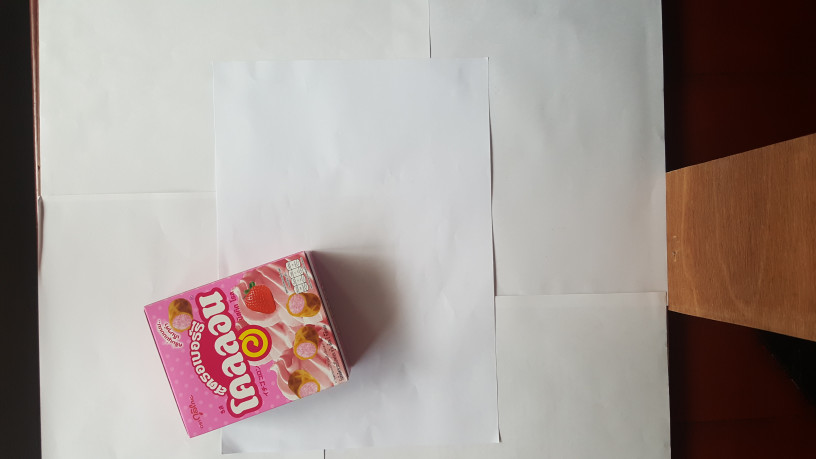collon-strawberry: (141, 251, 349, 439)
